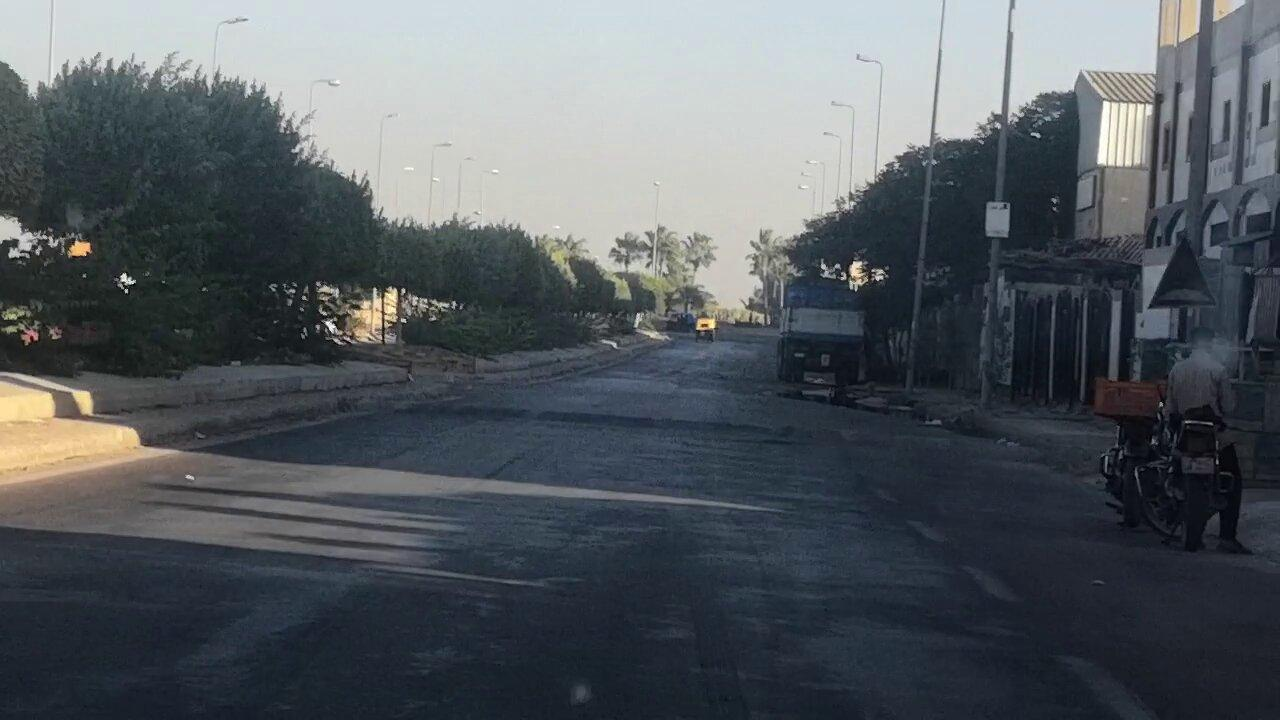Bump: (387, 385, 1013, 452)
